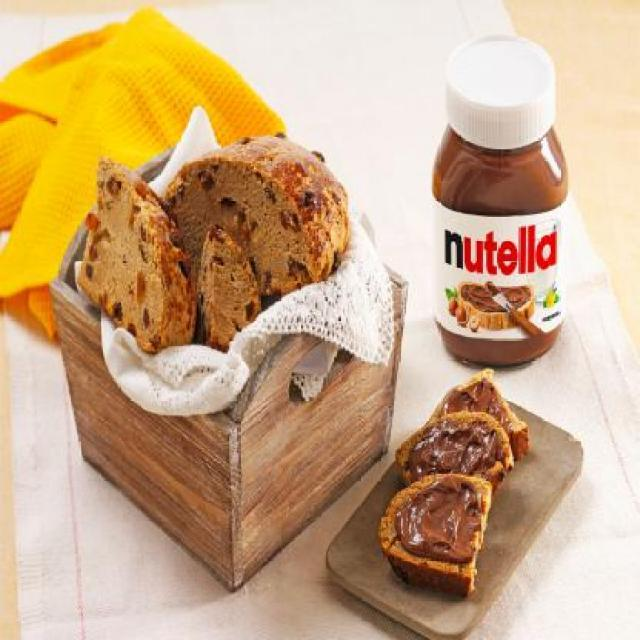Spread: (392, 473, 486, 572), (402, 421, 508, 497)
